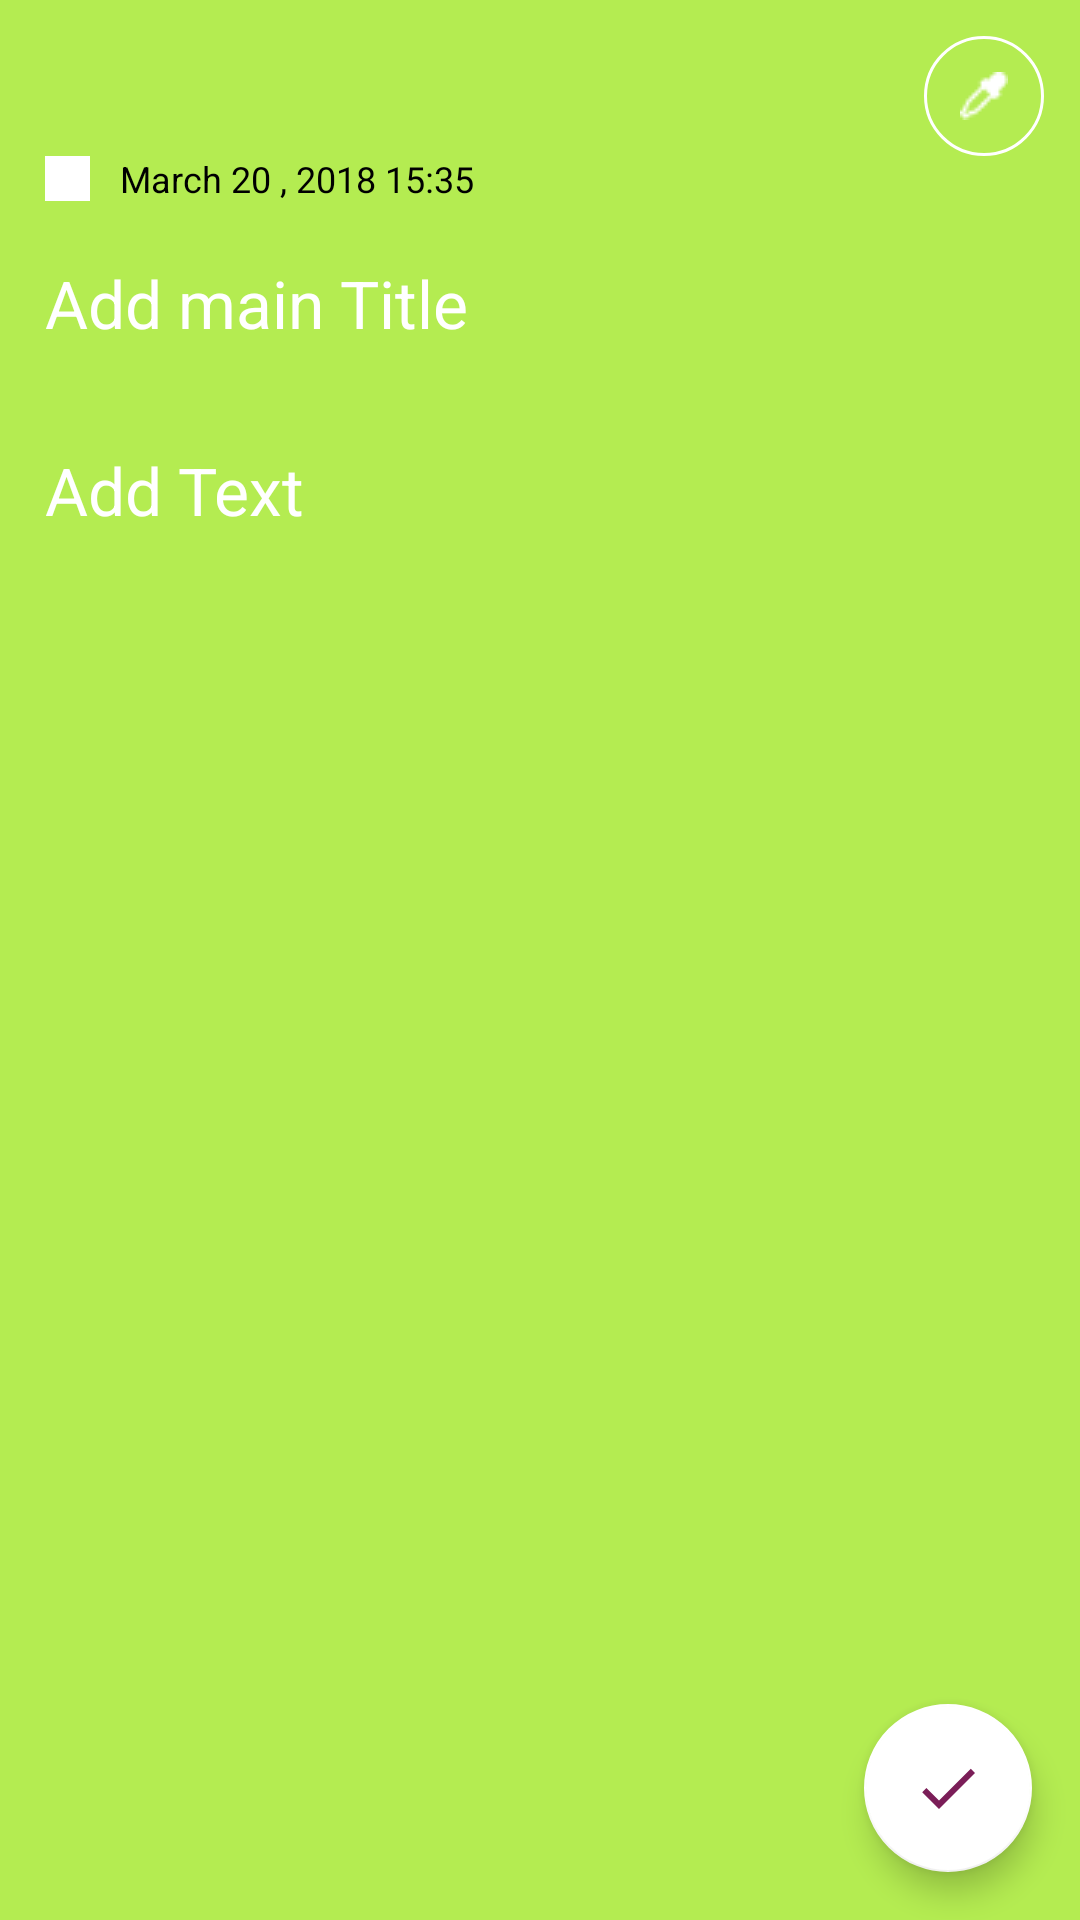

Icons on this 1080×1920 Android screen, each with the point to tap as (x=x, y=y):
done: (x=948, y=1788)
pick: (x=984, y=96)
